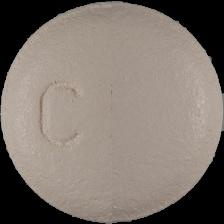65597-114: (0, 0, 224, 224)
